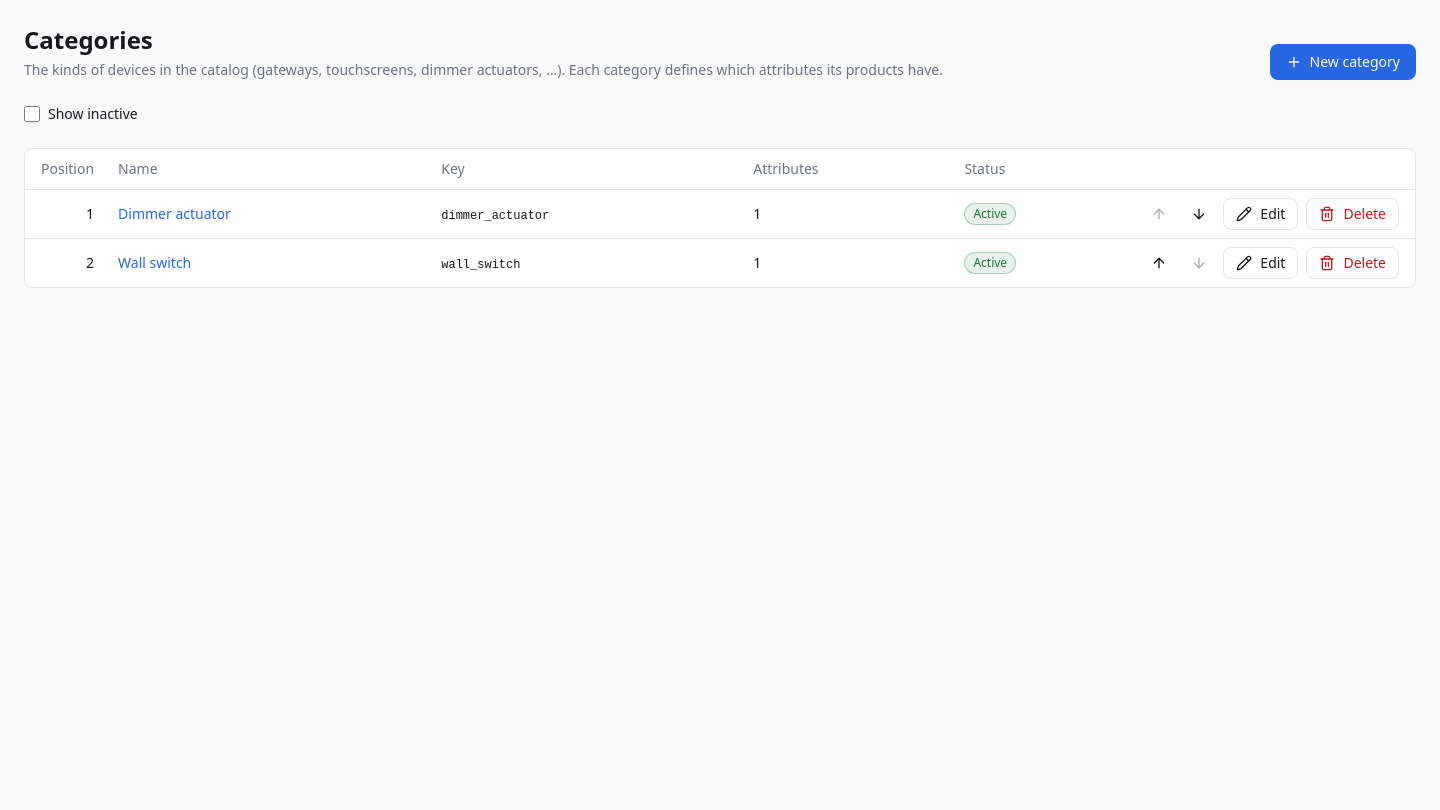
Test: CategoriesPage › deletes a category
Click the button "Delete" in the row of "Wall switch" at (1353, 263), box top-left (1306, 247), bottom-right (1399, 279)
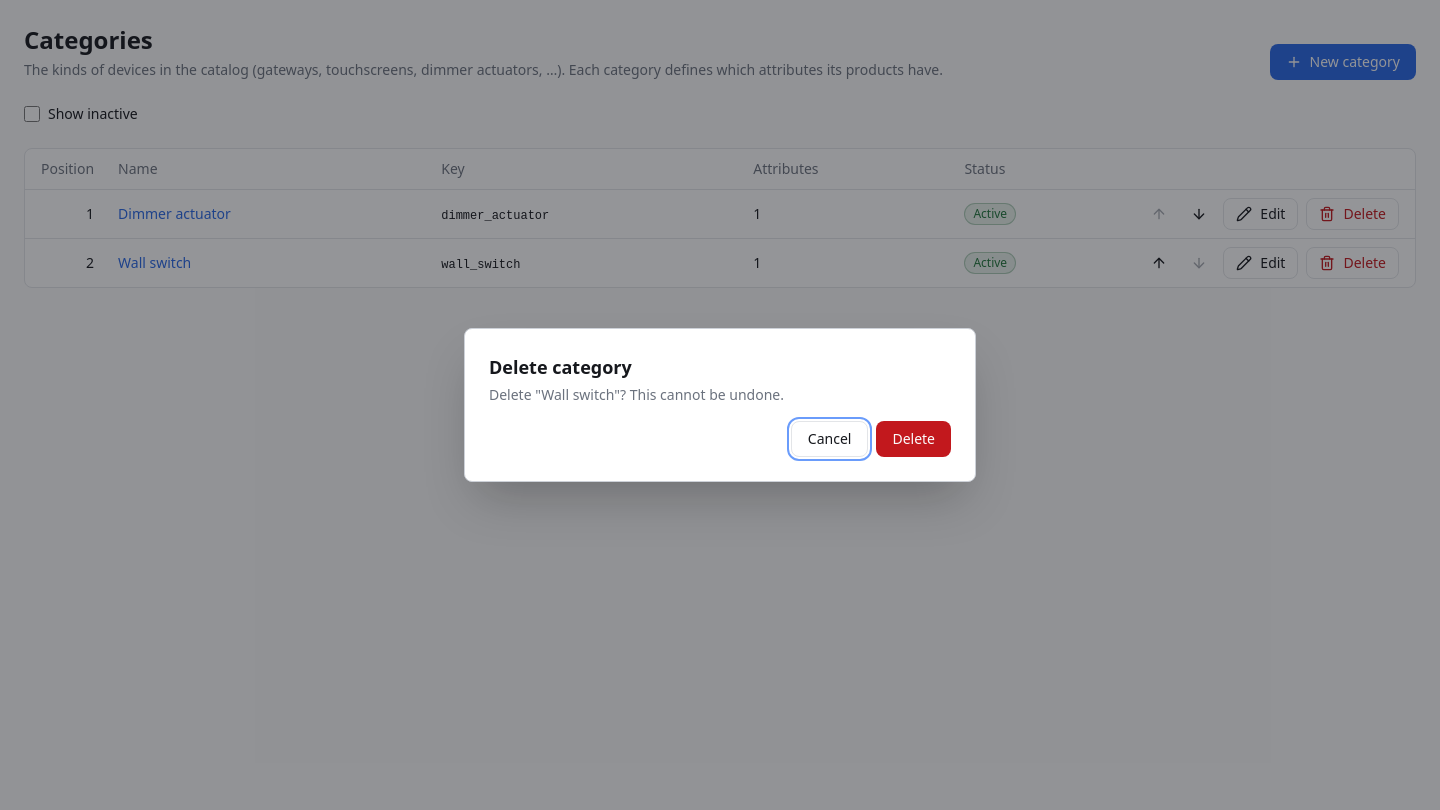
Click the button "Delete" at (914, 439), box top-left (876, 421), bottom-right (951, 457)
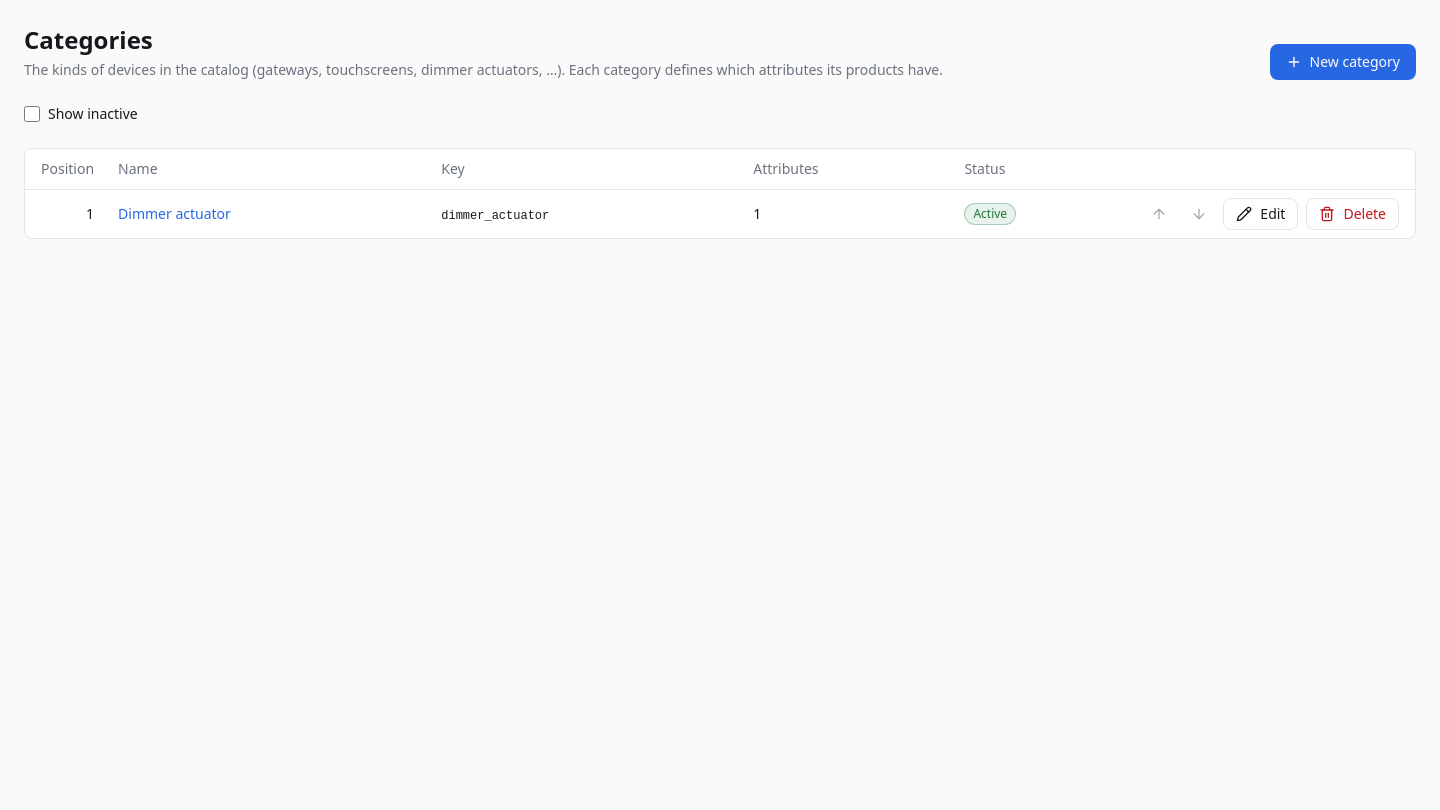
Expected: the link "Dimmer actuator" is shown, top-left (118, 204), bottom-right (231, 223)
Result: the link "Wall switch" is gone
